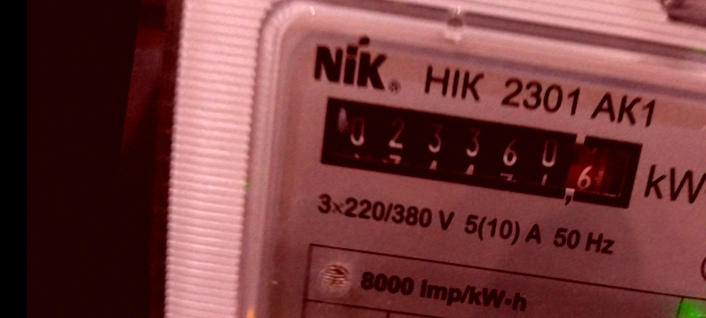0: (347, 111, 374, 148), (539, 134, 565, 171)
2: (387, 114, 413, 152)
3: (426, 120, 450, 157), (464, 124, 487, 160)
6: (501, 132, 525, 169), (576, 158, 598, 193)
screen: (305, 83, 666, 230)
